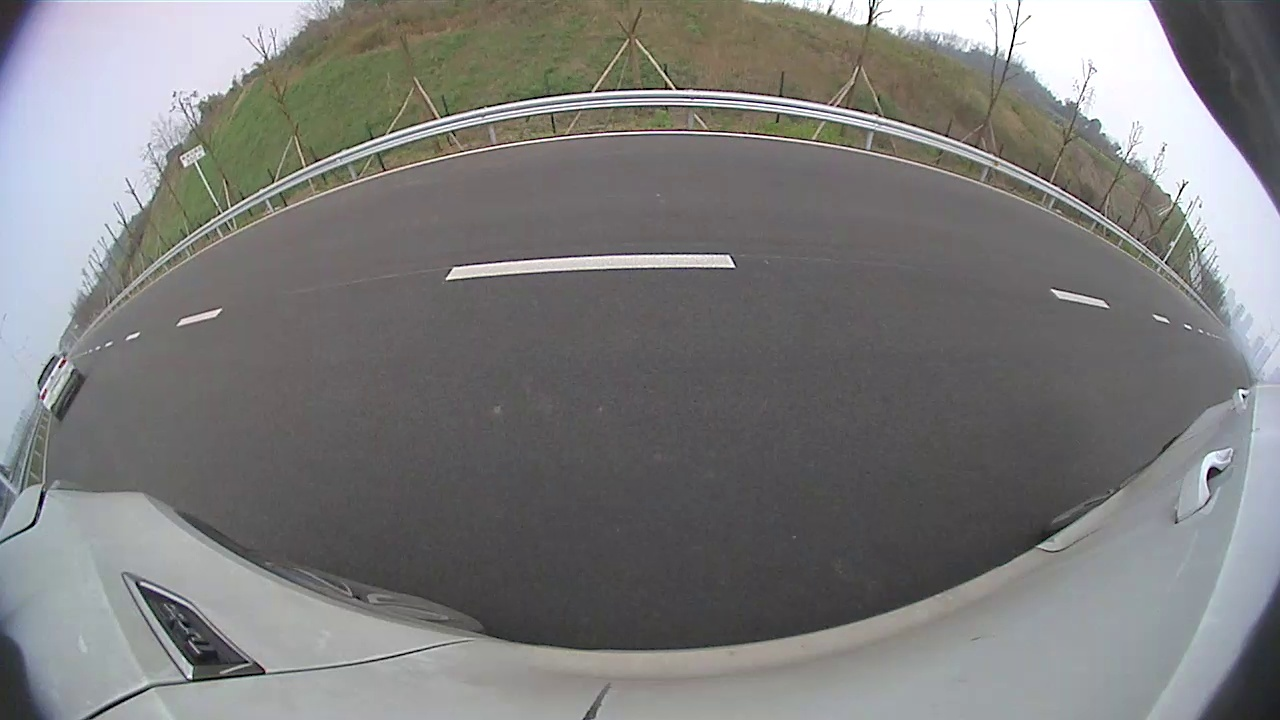car: (682, 134, 777, 209)
